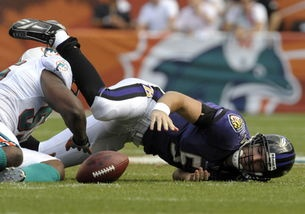falling: (42, 9, 297, 182)
